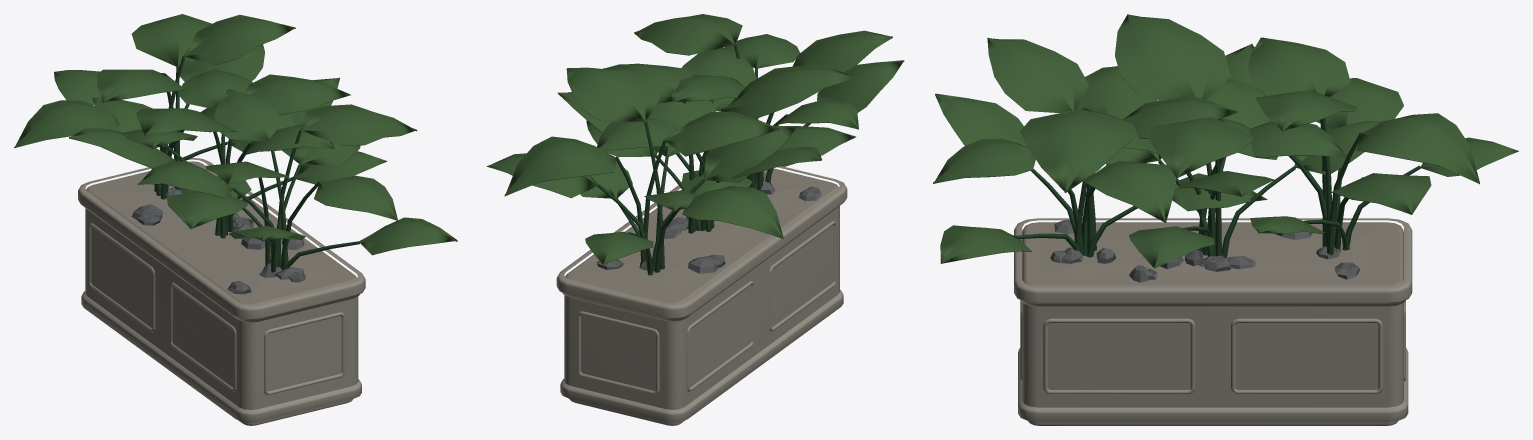
The model's file is planter_plant.glb.
The picture shows the model from 3 angles, left to right: view 1: azimuth 30°, elevation 25°; view 2: azimuth 150°, elevation 25°; view 3: azimuth 270°, elevation 25°; orthographic projection. The views are drawn at different scales.
Visible parts, largest first — view 1: garden, planter, gravel, garden_dark, stone; view 2: garden, planter, gravel, garden_dark, stone; view 3: garden, planter, gravel, garden_dark, stone.
Boxes of the visible parts, <box> form: garden: <box>14,14,457,255</box>; planter: <box>78,157,365,425</box>; gravel: <box>86,161,356,304</box>; garden_dark: <box>151,56,359,272</box>; stone: <box>131,187,305,294</box>; garden: <box>486,14,904,264</box>; planter: <box>556,166,847,425</box>; gravel: <box>565,168,838,303</box>; garden_dark: <box>597,44,811,275</box>; stone: <box>597,172,821,273</box>; garden: <box>933,14,1518,268</box>; planter: <box>1014,218,1412,425</box>; gravel: <box>1022,222,1403,286</box>; garden_dark: <box>1016,107,1420,257</box>; stone: <box>1050,220,1359,282</box>.
Size of what is drawn, in the model's own units: 1.21 by 1.18 by 1.87.
